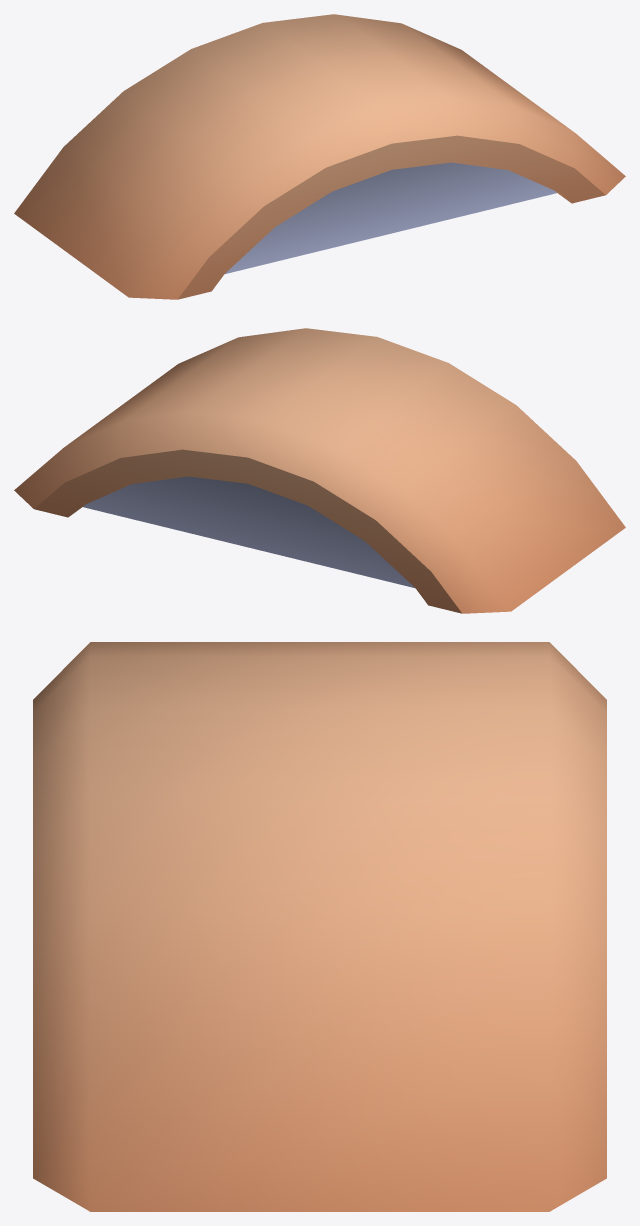
File: block-grass-curve-low.glb
3 views of the same model, one above another, from view 1: azimuth 30°, elevation 25°; view 2: azimuth 150°, elevation 25°; view 3: azimuth 270°, elevation 25° (orthographic). The views are drawn at different scales.
Parts seen in each view (by area): view 1: block-grass-curve-low; view 2: block-grass-curve-low; view 3: block-grass-curve-low.
Part boxes in pixels (left/top/right/bottom): block-grass-curve-low: left=14, top=14, right=625, bottom=299; block-grass-curve-low: left=14, top=328, right=625, bottom=613; block-grass-curve-low: left=33, top=642, right=606, bottom=1211.
Size of the model in its own units: 2 by 0.5 by 1.
